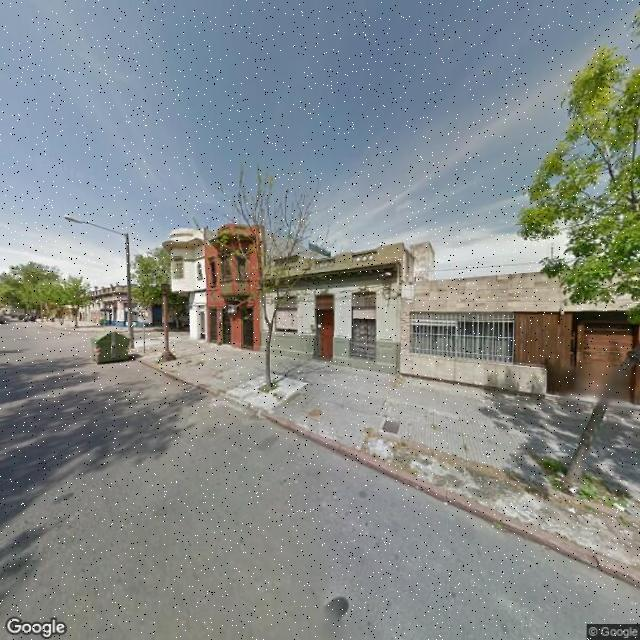garbage container: (84, 327, 137, 374)
